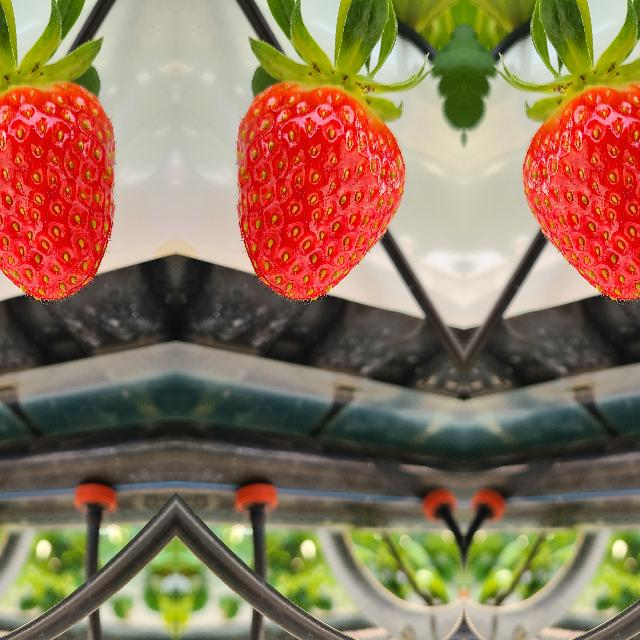Health_100: (232, 81, 406, 305), (520, 81, 640, 305), (0, 81, 117, 305)
